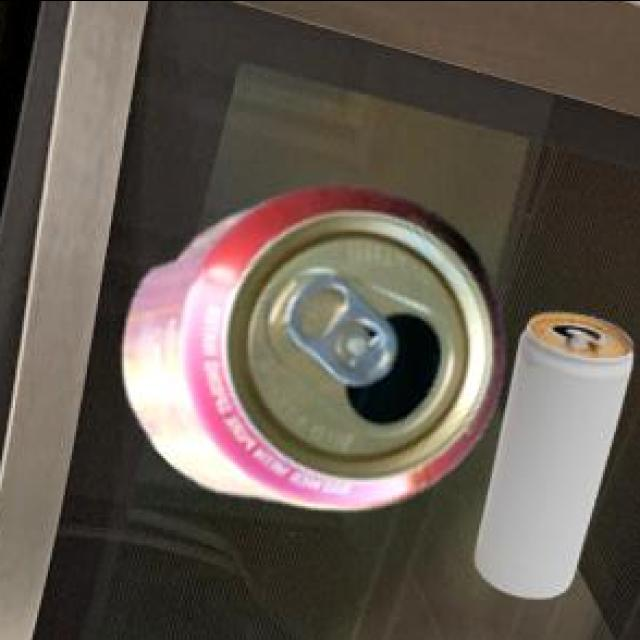logam: (121, 182, 500, 504), (471, 308, 630, 593)
